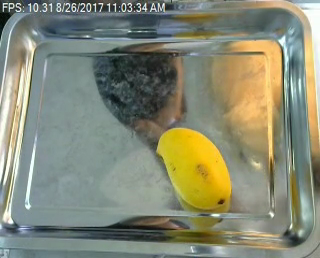Mango: (149, 122, 235, 211)
